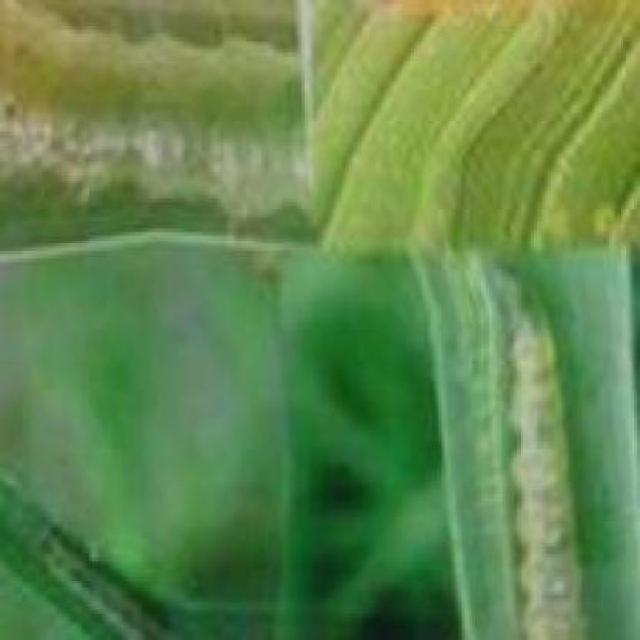leaf-folder: (11, 12, 303, 232), (478, 286, 578, 640), (26, 520, 192, 640)
